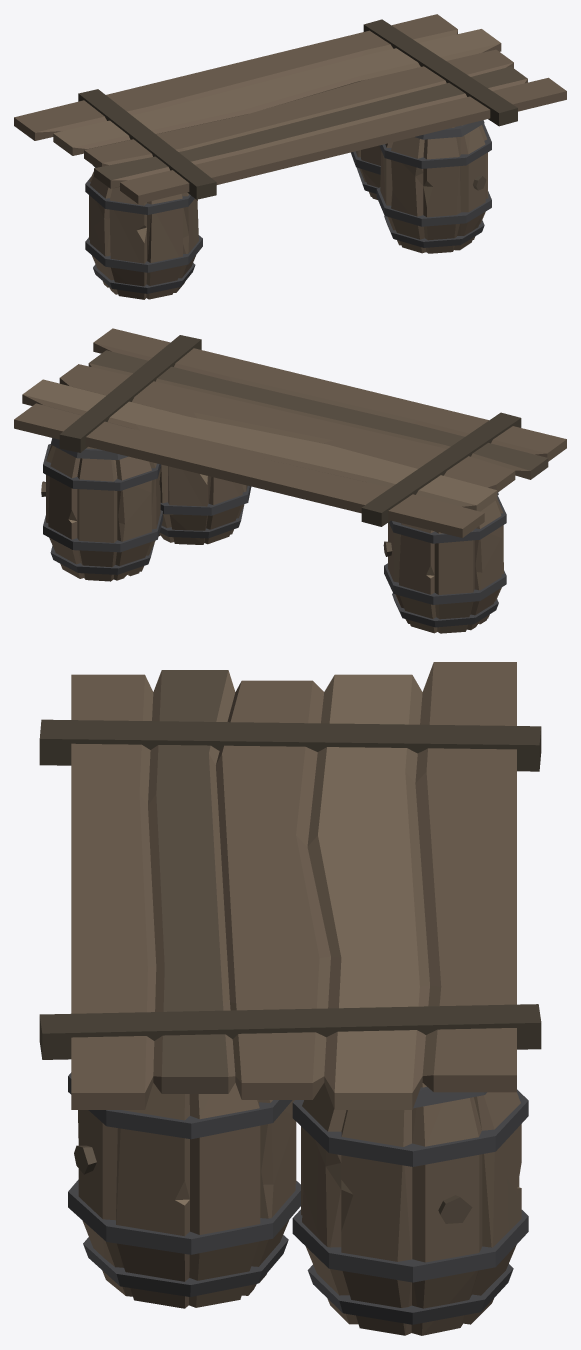
File: SM_Prop_Table_03.glb
3 views of the same model, one above another, from view 1: azimuth 30°, elevation 25°; view 2: azimuth 150°, elevation 25°; view 3: azimuth 270°, elevation 25° (orthographic). The views are drawn at different scales.
Parts seen in each view (by area): view 1: SM_Prop_Table_03; view 2: SM_Prop_Table_03; view 3: SM_Prop_Table_03.
Part boxes in pixels (bbox=[...]): SM_Prop_Table_03: bbox=[14, 14, 566, 299]; SM_Prop_Table_03: bbox=[14, 328, 566, 633]; SM_Prop_Table_03: bbox=[39, 662, 541, 1335].
Size of the model in its own units: 0.028 by 0.0087 by 0.0138.
